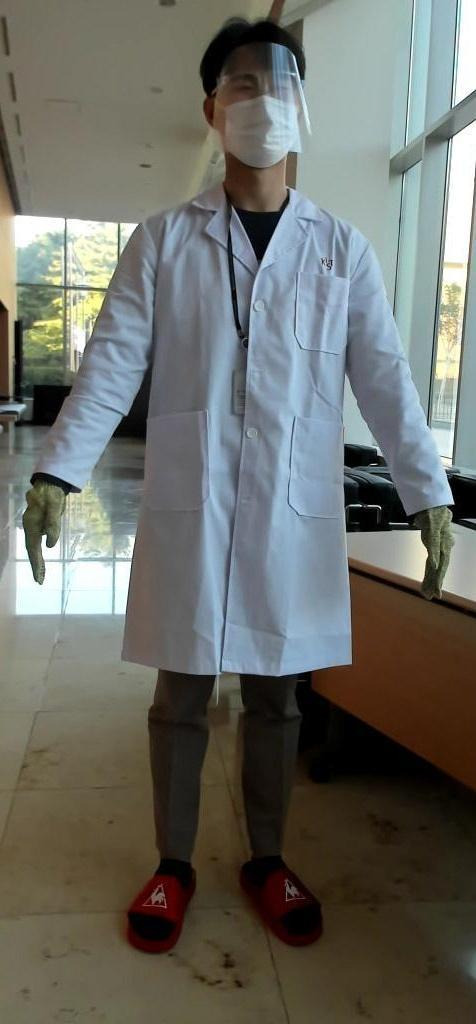lab_coat: (94, 208, 404, 687)
